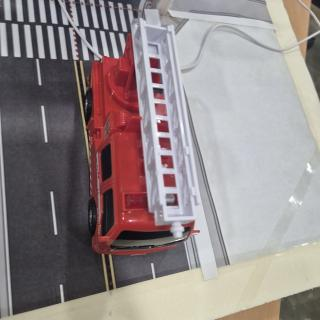Fire_truck: (83, 19, 201, 255)
